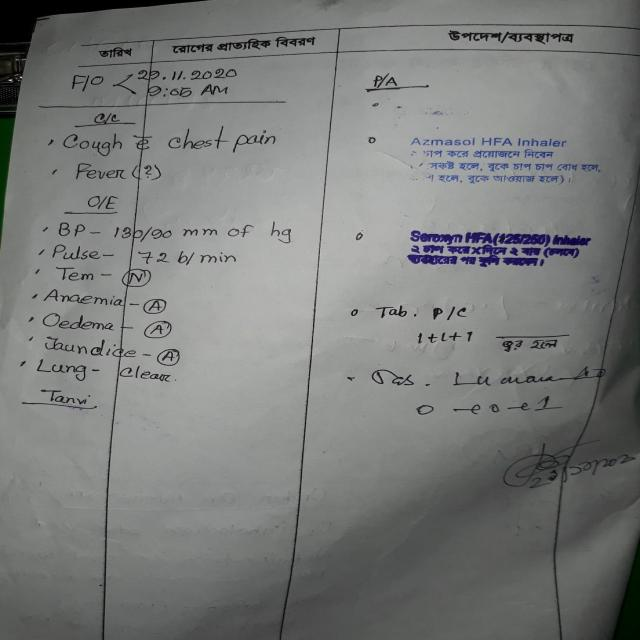Lumona: (445, 368, 564, 392)
P-C: (425, 302, 475, 322)
